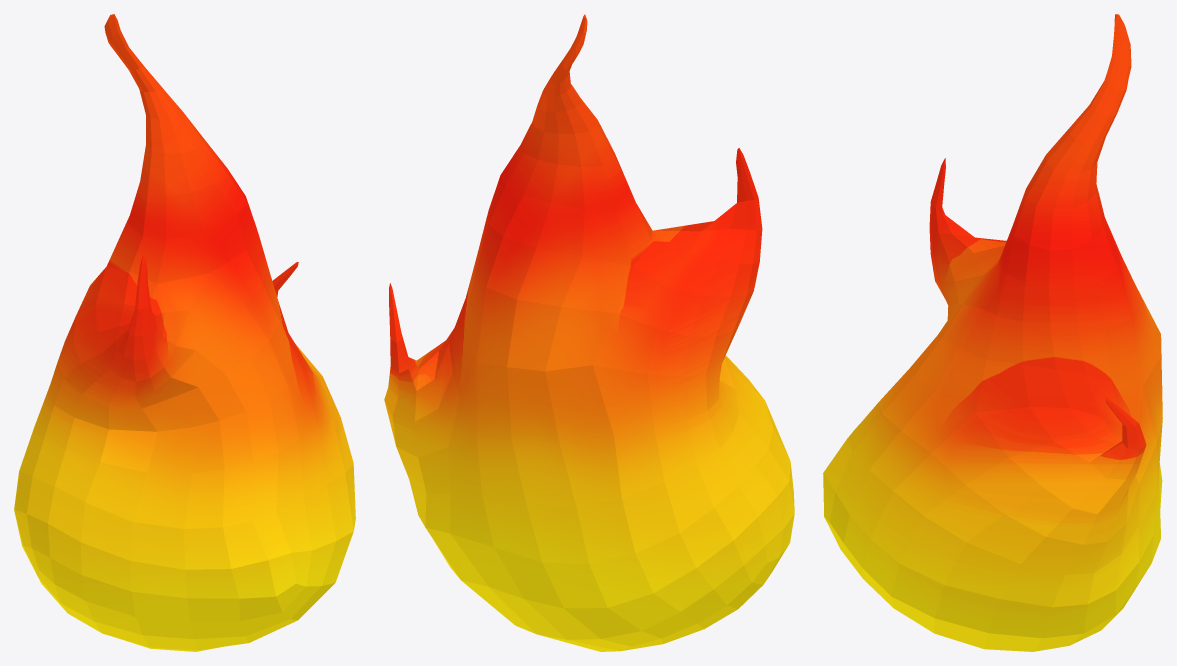
Rendered from 0_lev2.glb.
3 renders of one model, left to right at view 1: azimuth 30°, elevation 25°; view 2: azimuth 150°, elevation 25°; view 3: azimuth 270°, elevation 25°, orthographic. The views are drawn at different scales.
Visible parts, largest first — view 1: 0_lev2; view 2: 0_lev2; view 3: 0_lev2.
Boxes of the visible parts, x1,y1,x2,y2 form: 0_lev2: [14, 14, 355, 651]; 0_lev2: [384, 14, 794, 651]; 0_lev2: [823, 14, 1162, 651].
Size of the model in its own units: 0.3185 by 0.5793 by 0.2949.
Materials: 1 (1 with a texture image).
